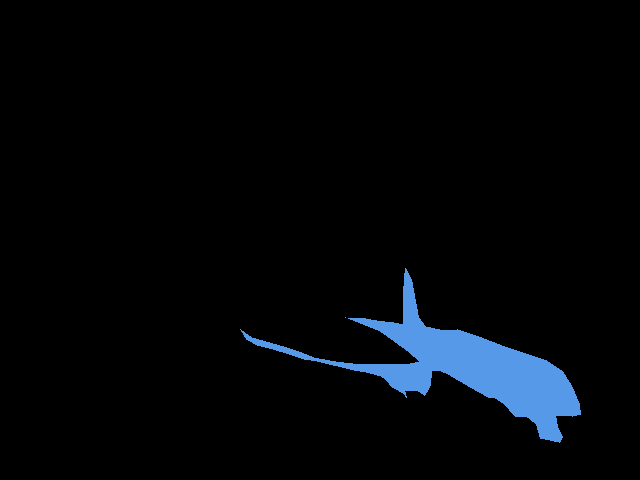Airplane: (240, 268, 580, 443)
